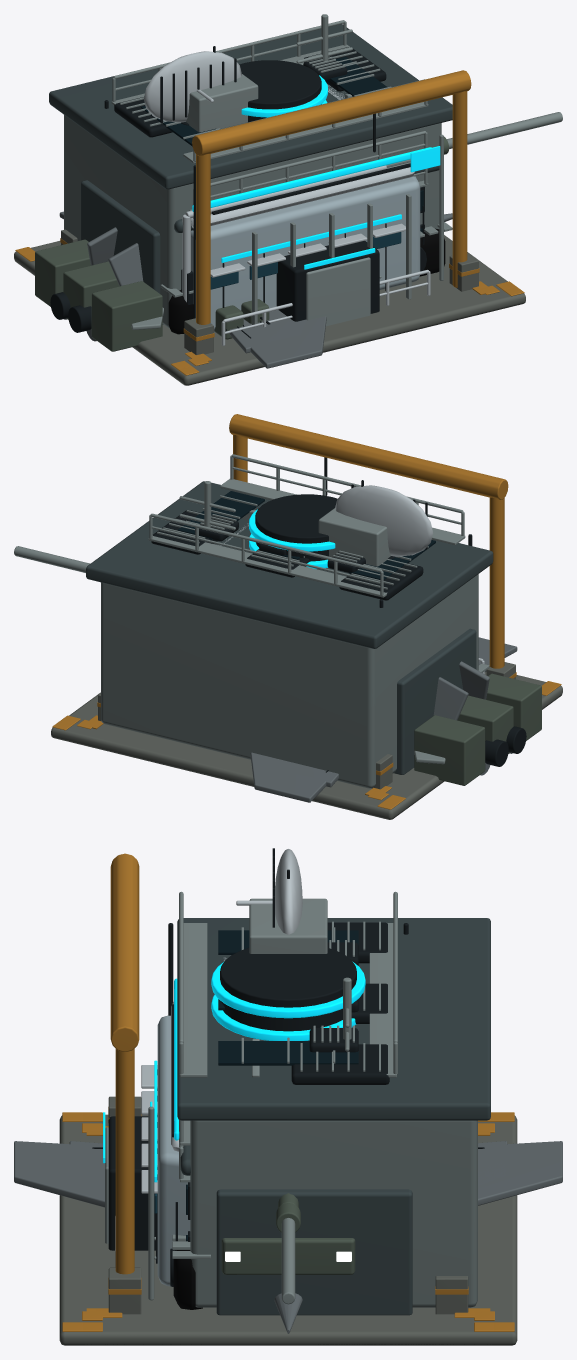
File: realism-library.glb
3 views of the same model, one above another, from view 1: azimuth 30°, elevation 25°; view 2: azimuth 150°, elevation 25°; view 3: azimuth 270°, elevation 25° (orthographic). The views are drawn at different scales.
Parts seen in each view (by area): view 1: 车间屋顶.001, 装甲生产车间.001, 斜面复合建筑.005, 基础平台.004, 吊装横梁, 兵工储运集装箱, 通信侧塔, 指挥中心装甲门, 相控阵雷达, 入口门厅, 密封反应堆, 吊装立柱.001 (+37 smaller); view 2: 装甲生产车间.001, 车间屋顶.001, 基础平台.004, 吊装横梁, 通信侧塔, 相控阵雷达, 兵工储运集装箱.002, 密封反应堆, 吊装立柱, 兵工电子设备舱, 兵工储运集装箱, 后掠翼.003 (+20 smaller); view 3: 车间屋顶.001, 装甲生产车间.001, 基础平台.004, 通信侧塔.001, 基础平台, 密封反应堆, 吊装横梁, 斜面复合建筑.005, 吊装立柱.001, 后掠翼.002, 楔形装甲车体.008, 后掠翼.003 (+25 smaller).
Part boxes in pixels (x1,y1,x2,y2): 车间屋顶.001: (49, 24, 452, 189); 装甲生产车间.001: (64, 115, 441, 328); 斜面复合建筑.005: (191, 176, 420, 330); 基础平台.004: (14, 235, 525, 385); 吊装横梁: (192, 70, 471, 156); 兵工储运集装箱: (91, 281, 162, 351); 通信侧塔: (81, 180, 163, 324); 指挥中心装甲门: (306, 257, 370, 326); 相控阵雷达: (144, 51, 241, 122); 入口门厅: (276, 241, 379, 321); 密封反应堆: (239, 60, 321, 122); 吊装立柱.001: (452, 91, 467, 287); 装甲生产车间.001: (101, 574, 478, 788); 车间屋顶.001: (86, 481, 493, 648); 基础平台.004: (51, 671, 562, 819); 吊装横梁: (229, 414, 508, 499); 通信侧塔: (394, 628, 476, 774); 相控阵雷达: (335, 485, 432, 556); 兵工储运集装箱.002: (414, 715, 485, 785); 密封反应堆: (255, 494, 337, 561); 吊装立柱: (489, 497, 504, 668); 兵工电子设备舱: (318, 508, 390, 566); 兵工储运集装箱: (486, 673, 541, 740); 后掠翼.003: (250, 752, 332, 802); 车间屋顶.001: (177, 918, 490, 1120); 装甲生产车间.001: (190, 1120, 477, 1307); 基础平台.004: (59, 1114, 517, 1345); 通信侧塔.001: (216, 1189, 412, 1315); 基础平台: (84, 1115, 492, 1345); 密封反应堆: (220, 948, 356, 1031); 吊装横梁: (110, 853, 139, 1051); 斜面复合建筑.005: (157, 1015, 190, 1286); 吊装立柱.001: (115, 1048, 134, 1274); 后掠翼.002: (14, 1141, 104, 1207); 楔形装甲车体.008: (221, 1238, 355, 1274); 后掠翼.003: (478, 1141, 562, 1205).
Bounding box in the file's own units: 11.58 × 5.64 × 8.4.
